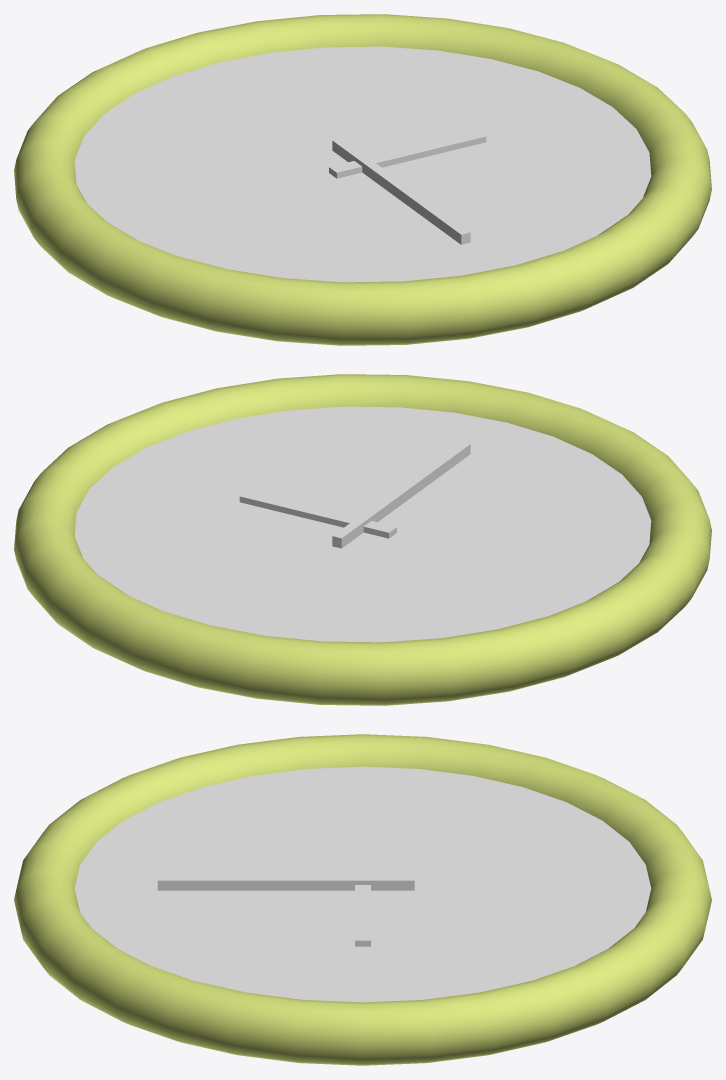
The model's file is Clock.fbx.
3 views of the same model, one above another, from view 1: azimuth 30°, elevation 25°; view 2: azimuth 150°, elevation 25°; view 3: azimuth 270°, elevation 25° (orthographic).
Parts seen in each view (by area): view 1: Clock, HandLong, HandShort; view 2: Clock, HandLong, HandShort; view 3: Clock, HandLong, HandShort.
Boxes of the visible parts, x1,y1,x2,y2 form: Clock: (14, 14, 711, 345); HandLong: (332, 138, 470, 244); HandShort: (329, 130, 486, 178); Clock: (14, 374, 711, 705); HandLong: (332, 442, 470, 548); HandShort: (239, 490, 396, 538); Clock: (14, 734, 711, 1065); HandLong: (157, 876, 414, 890); HandShort: (355, 868, 370, 946).
Bounding box in the file's own units: 4.4 × 0.4 × 4.4.
